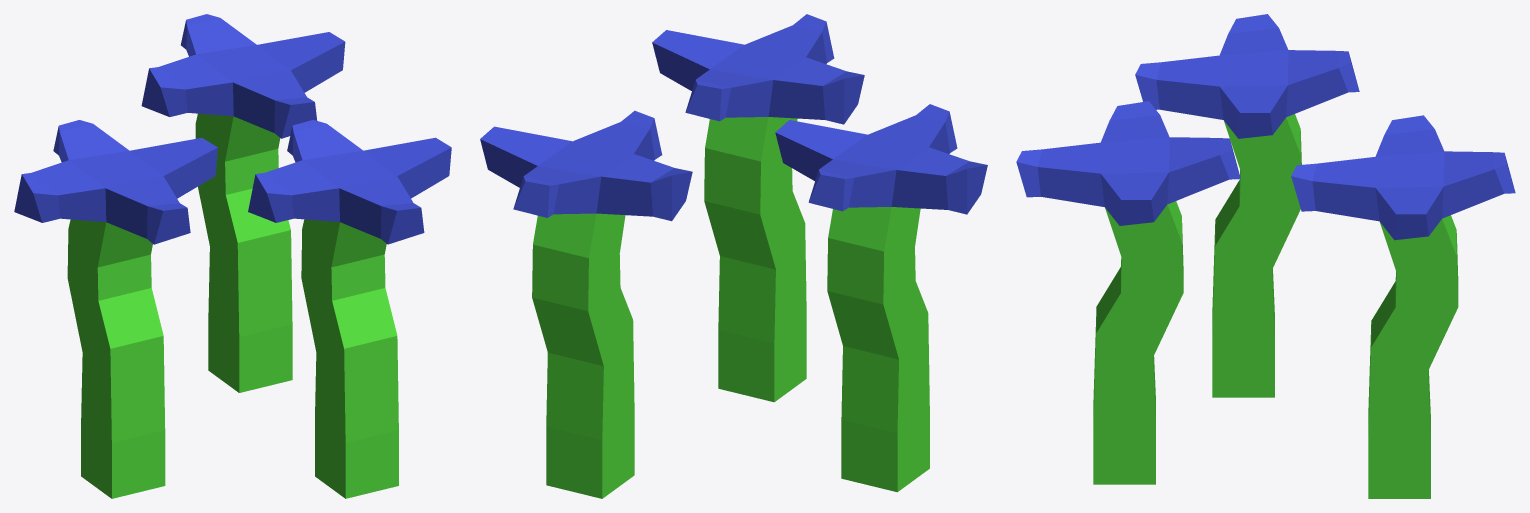
Rendered from flower_blue_3.glb.
3 renders of one model, left to right at view 1: azimuth 30°, elevation 25°; view 2: azimuth 150°, elevation 25°; view 3: azimuth 270°, elevation 25°, orthographic. The views are drawn at different scales.
Visible parts, largest first — view 1: Cube.001, Cube.002, Cube; view 2: Cube, Cube.001, Cube.002; view 3: Cube.002, Cube, Cube.001.
Part boxes in pixels (x1,y1,x2,y2): Cube.001: [14, 120, 217, 498]; Cube.002: [248, 120, 451, 498]; Cube: [141, 14, 345, 392]; Cube: [480, 110, 692, 498]; Cube.001: [775, 104, 987, 492]; Cube.002: [652, 14, 864, 402]; Cube.002: [1016, 101, 1240, 484]; Cube: [1291, 115, 1515, 498]; Cube.001: [1135, 14, 1359, 397].
Bounding box in the file's own units: 0.7329 × 0.5753 × 0.7971.
